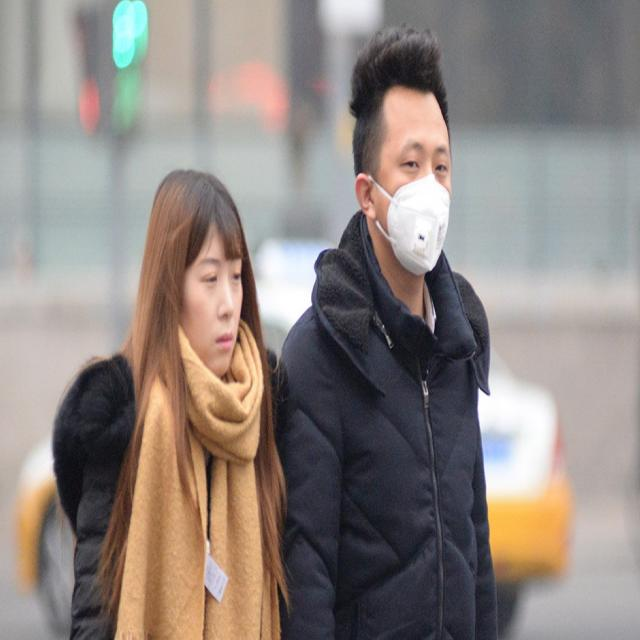mask: (385, 107, 450, 279)
nomask: (179, 244, 242, 376)
